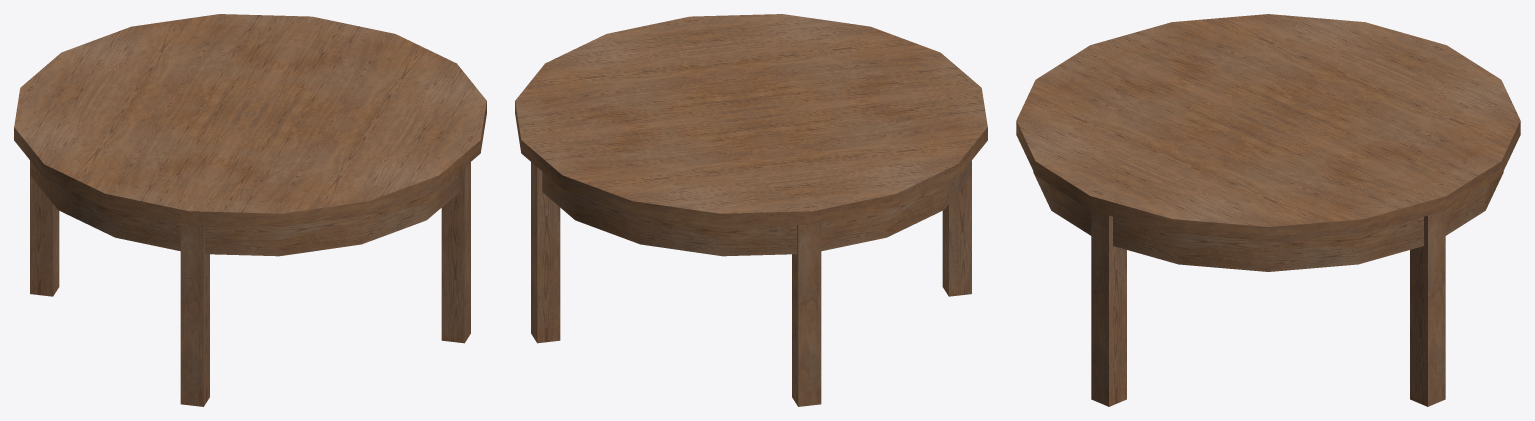
File: mt_prop_zhuozi02.FBX
The picture shows the model from 3 angles, left to right: view 1: azimuth 30°, elevation 25°; view 2: azimuth 150°, elevation 25°; view 3: azimuth 270°, elevation 25°; orthographic projection. The views are drawn at different scales.
Visible parts, largest first — view 1: mt_prop_zhuozi02; view 2: mt_prop_zhuozi02; view 3: mt_prop_zhuozi02.
Part boxes in pixels (bbox=[...]): mt_prop_zhuozi02: bbox=[14, 14, 486, 406]; mt_prop_zhuozi02: bbox=[515, 14, 987, 406]; mt_prop_zhuozi02: bbox=[1016, 14, 1520, 406].
Size of the model in its own units: 160 by 74.05 by 160.
